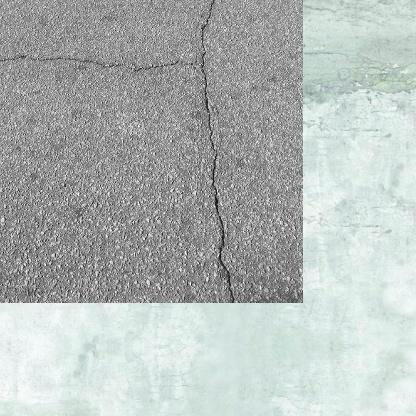Cracks: (0, 0, 220, 280)
